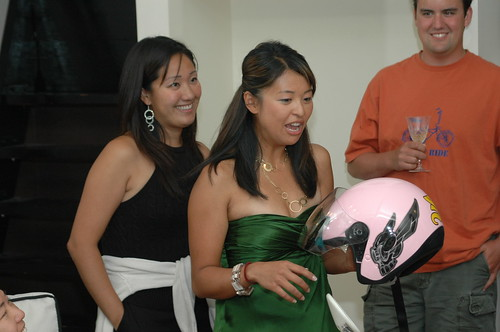helmet: (324, 176, 454, 290)
